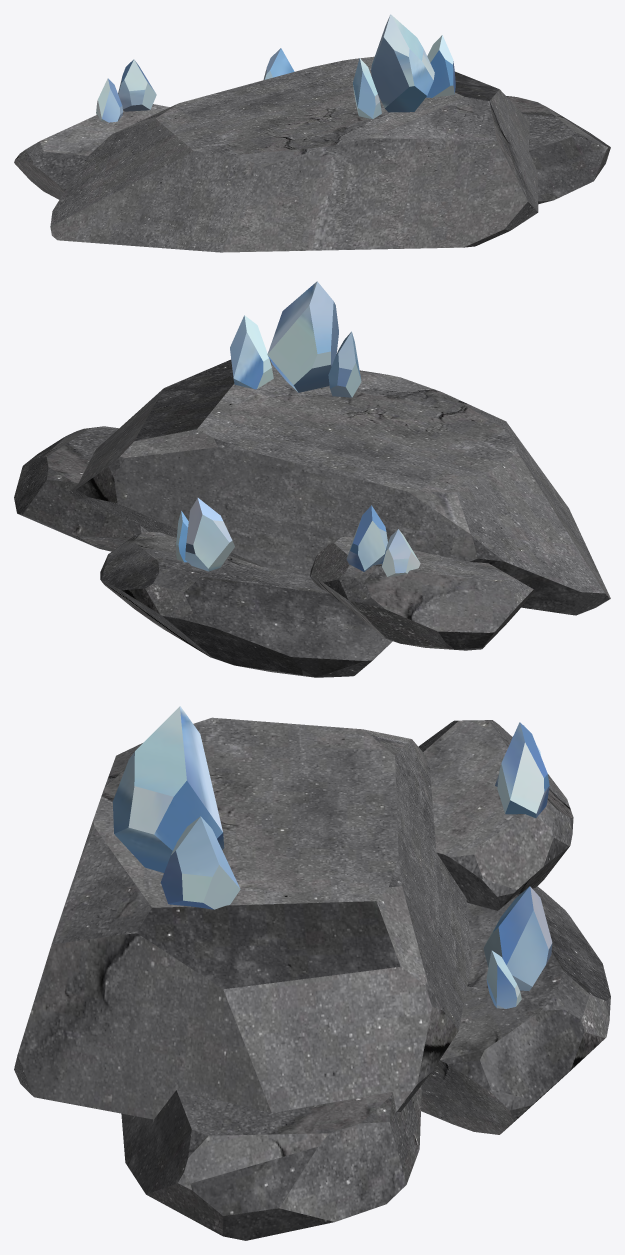
Rendered from FBX Plateforme2.fbx.
The picture shows the model from 3 angles, top to bottom: view 1: azimuth 30°, elevation 25°; view 2: azimuth 150°, elevation 25°; view 3: azimuth 270°, elevation 25°; orthographic projection. The views are drawn at different scales.
Parts seen in each view (by area): view 1: Icosphere.026, Icosphere.011; view 2: Icosphere.026, Icosphere.011; view 3: Icosphere.026, Icosphere.011.
Boxes of the visible parts, left/top/right/bottom form: Icosphere.026: left=14, top=56, right=610, bottom=252; Icosphere.011: left=96, top=14, right=455, bottom=122; Icosphere.026: left=14, top=359, right=610, bottom=677; Icosphere.011: left=176, top=281, right=420, bottom=577; Icosphere.026: left=14, top=717, right=610, bottom=1240; Icosphere.011: left=112, top=706, right=552, bottom=1008.
Size of the model in its own units: 394 by 171 by 235.
2 materials, 2 textured.
